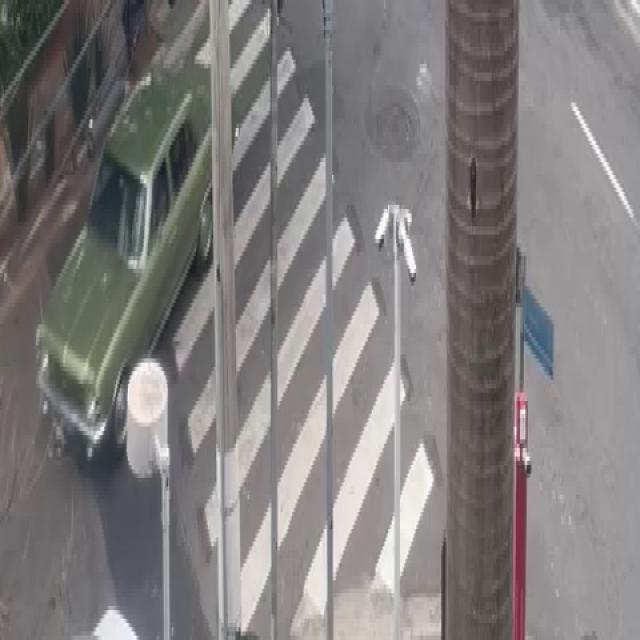car: (39, 72, 231, 491)
